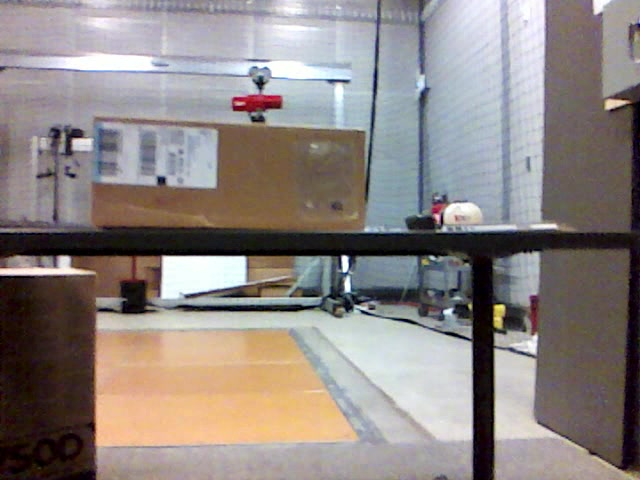box: (91, 117, 365, 231)
